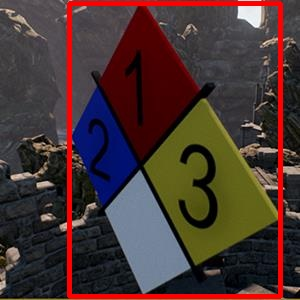nfpa: (69, 3, 280, 296)
